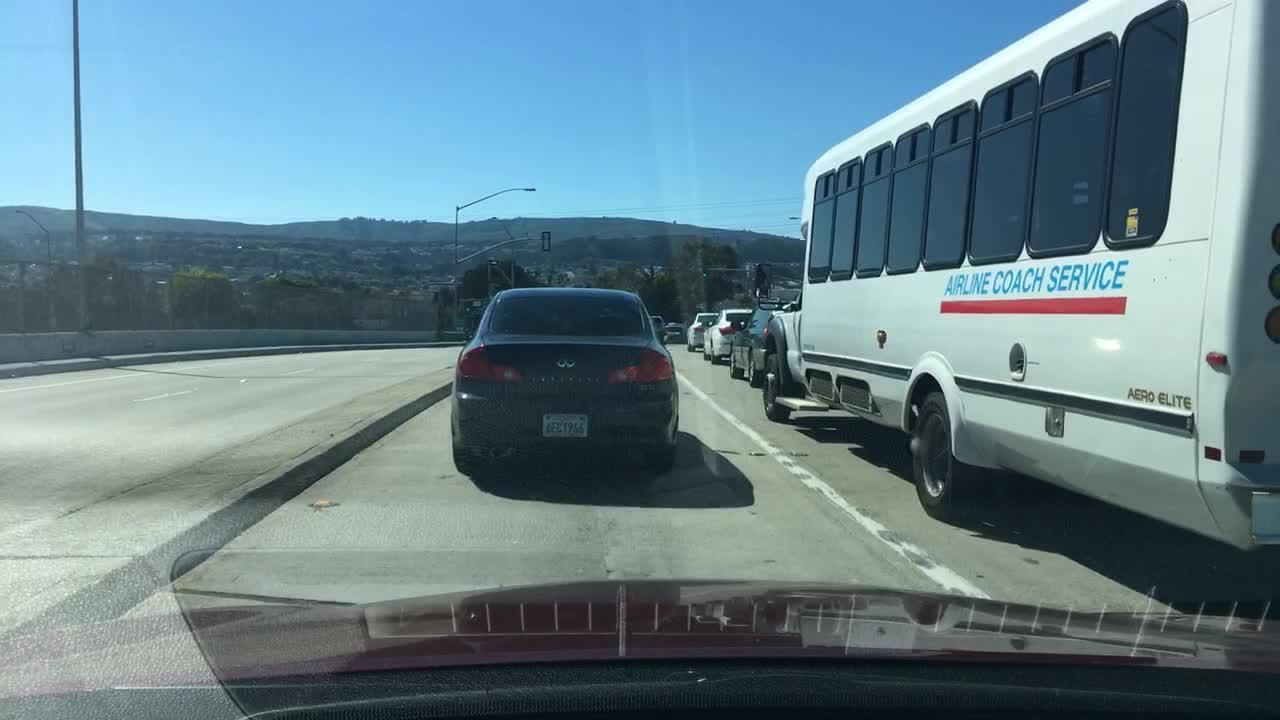Infiniti: (547, 348, 585, 375)
